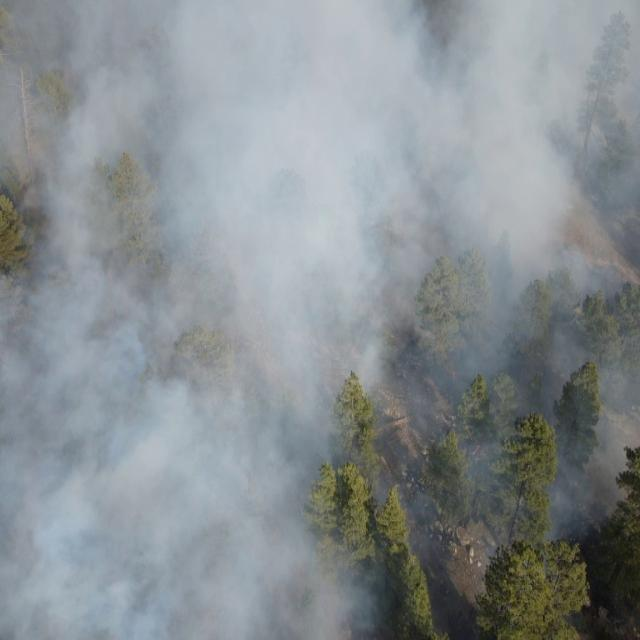fire: (465, 439, 488, 460)
smoke: (2, 0, 640, 555), (0, 552, 378, 640)
